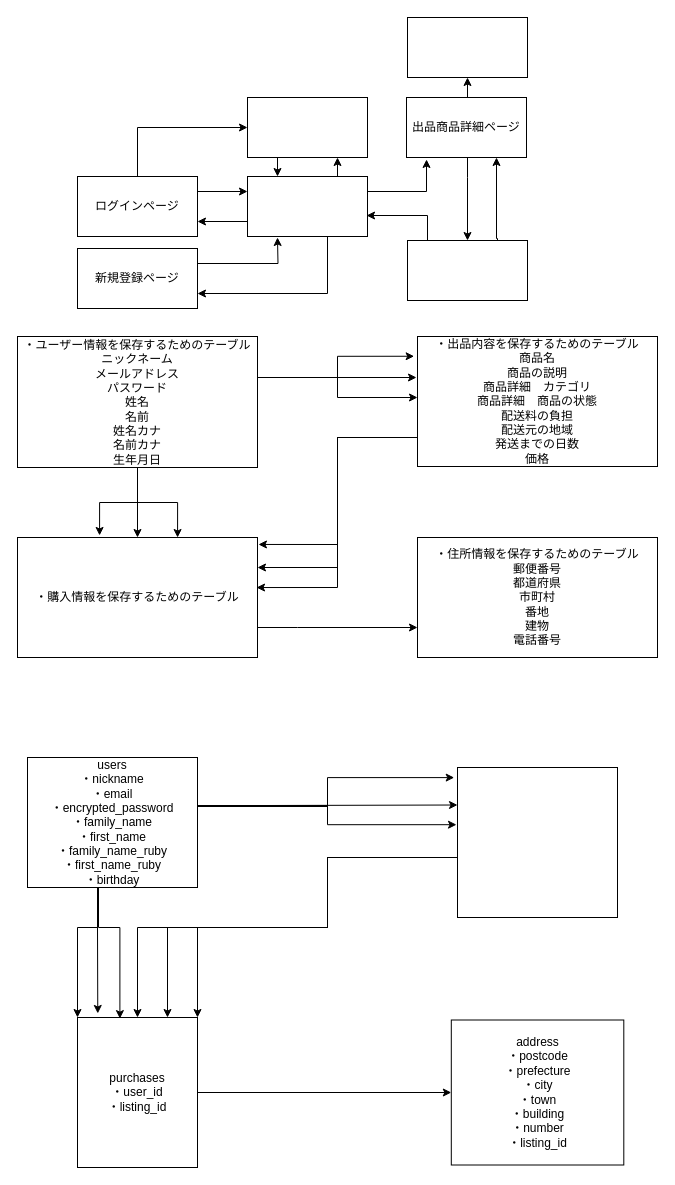
Image size: 675x1185. Some labels were removed from this diagram. The box of each missing label's shape, as (x1, y1, x2, y2) in pixels:
listings ・product ・text ・category ・state ・burden ・area ・days ・price ・user_id: (456, 766, 618, 918)
TOPページ: (246, 176, 368, 236)
商品の編集ページ: (406, 240, 528, 300)
商品出品ページ: (246, 96, 368, 158)
購入内容確認ページ: (406, 16, 528, 78)
